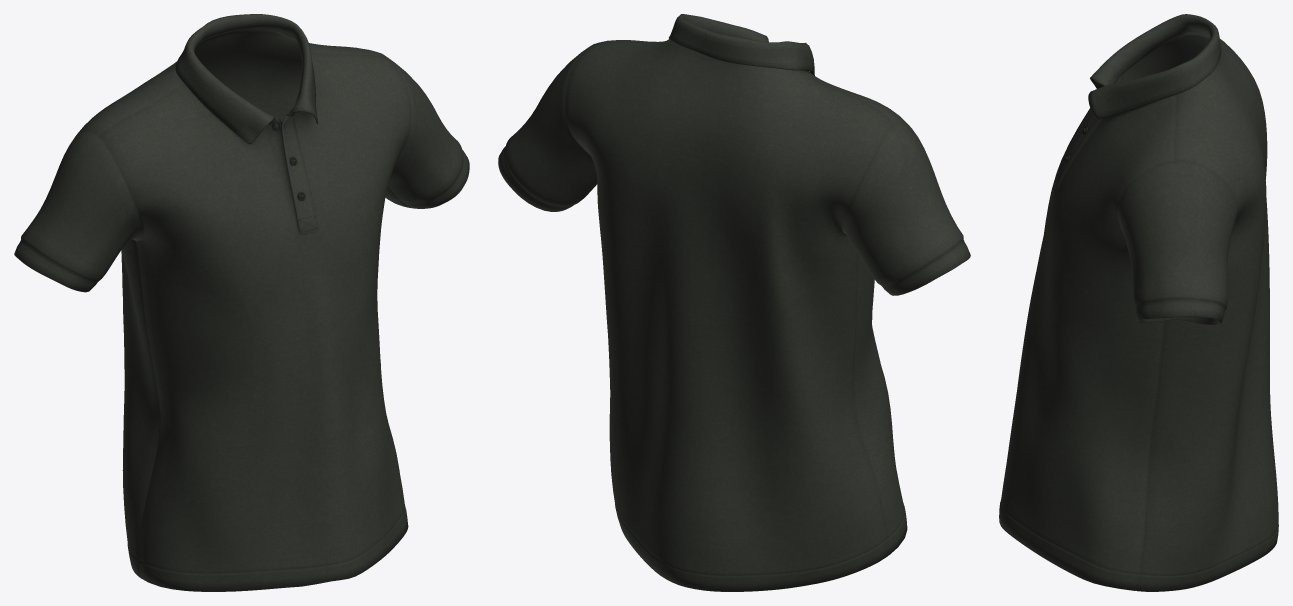
File: tshirt.glb
3 renders of one model, left to right at view 1: azimuth 30°, elevation 25°; view 2: azimuth 150°, elevation 25°; view 3: azimuth 270°, elevation 25°, orthographic. The views are drawn at different scales.
Parts seen in each view (by area): view 1: Polo Shirt.001_0; view 2: Polo Shirt.001_0; view 3: Polo Shirt.001_0.
Part boxes in pixels (bbox=[...]): Polo Shirt.001_0: bbox=[14, 14, 469, 591]; Polo Shirt.001_0: bbox=[498, 14, 970, 591]; Polo Shirt.001_0: bbox=[999, 14, 1278, 591].
Bounding box in the file's own units: 0.6433 × 0.7101 × 0.3541.
2 materials, 2 textured.
